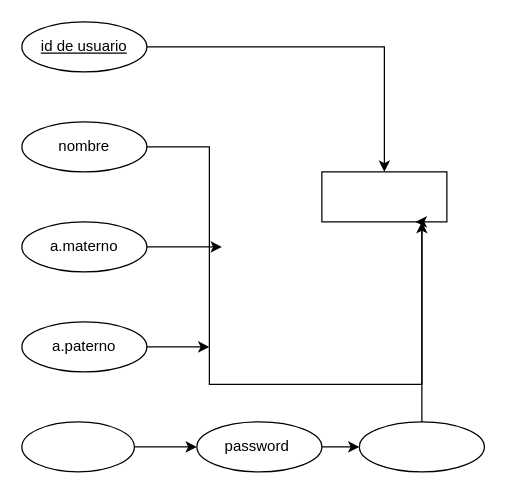
Some shapes in this 506 by 494 pixel diagram are drawn without their labels. The centre of each missing label's shape, as x and y in pixels:
"e.mail" belongs at point (421, 446).
"telefono" belongs at point (77, 446).
"usuario" belongs at point (384, 196).
